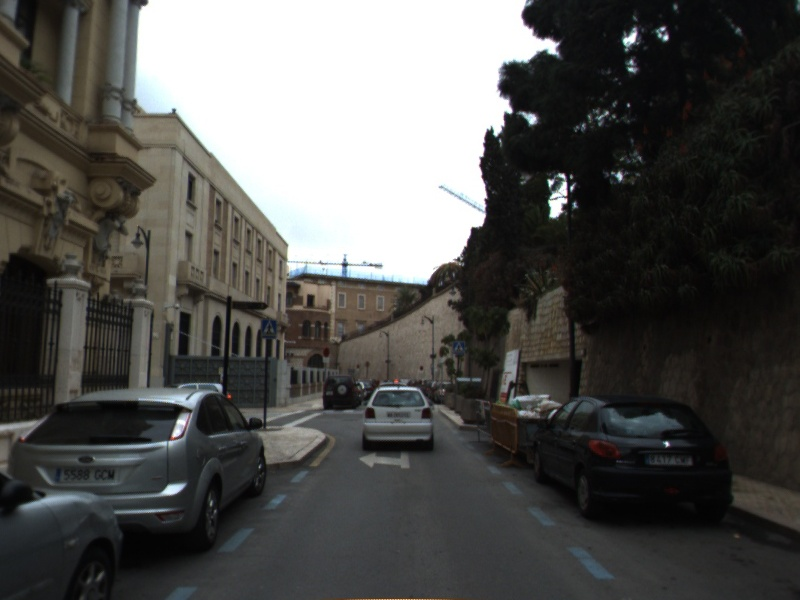STRAIGHT_LEFT: (357, 449, 412, 470)
